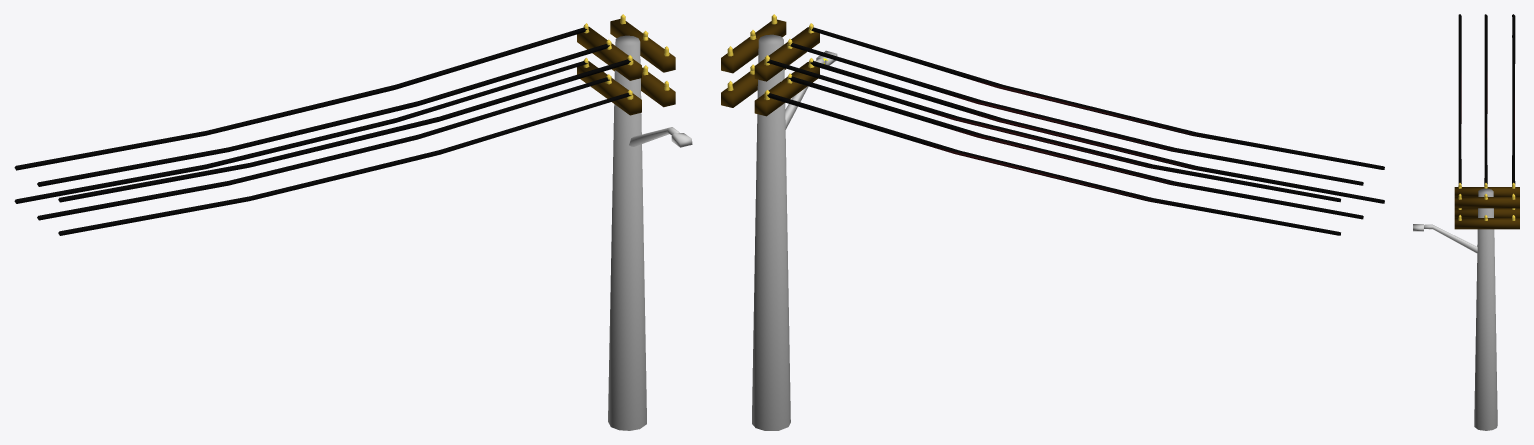
Rendered from PosteDeLuzFiosLadoEsquerdoLOD0.fbx.
3 renders of one model, left to right at view 1: azimuth 30°, elevation 25°; view 2: azimuth 150°, elevation 25°; view 3: azimuth 270°, elevation 25°, orthographic. The views are drawn at different scales.
Visible parts, largest first — view 1: PosteDeLuzFiosLadoEsquerdoLOD0; view 2: PosteDeLuzFiosLadoEsquerdoLOD0; view 3: PosteDeLuzFiosLadoEsquerdoLOD0.
Part boxes in pixels (x1,y1,x2,y2): PosteDeLuzFiosLadoEsquerdoLOD0: [14, 14, 692, 430]; PosteDeLuzFiosLadoEsquerdoLOD0: [721, 14, 1384, 430]; PosteDeLuzFiosLadoEsquerdoLOD0: [1413, 14, 1519, 430].
Bounding box in the file's own units: 1215 × 736 × 299.
